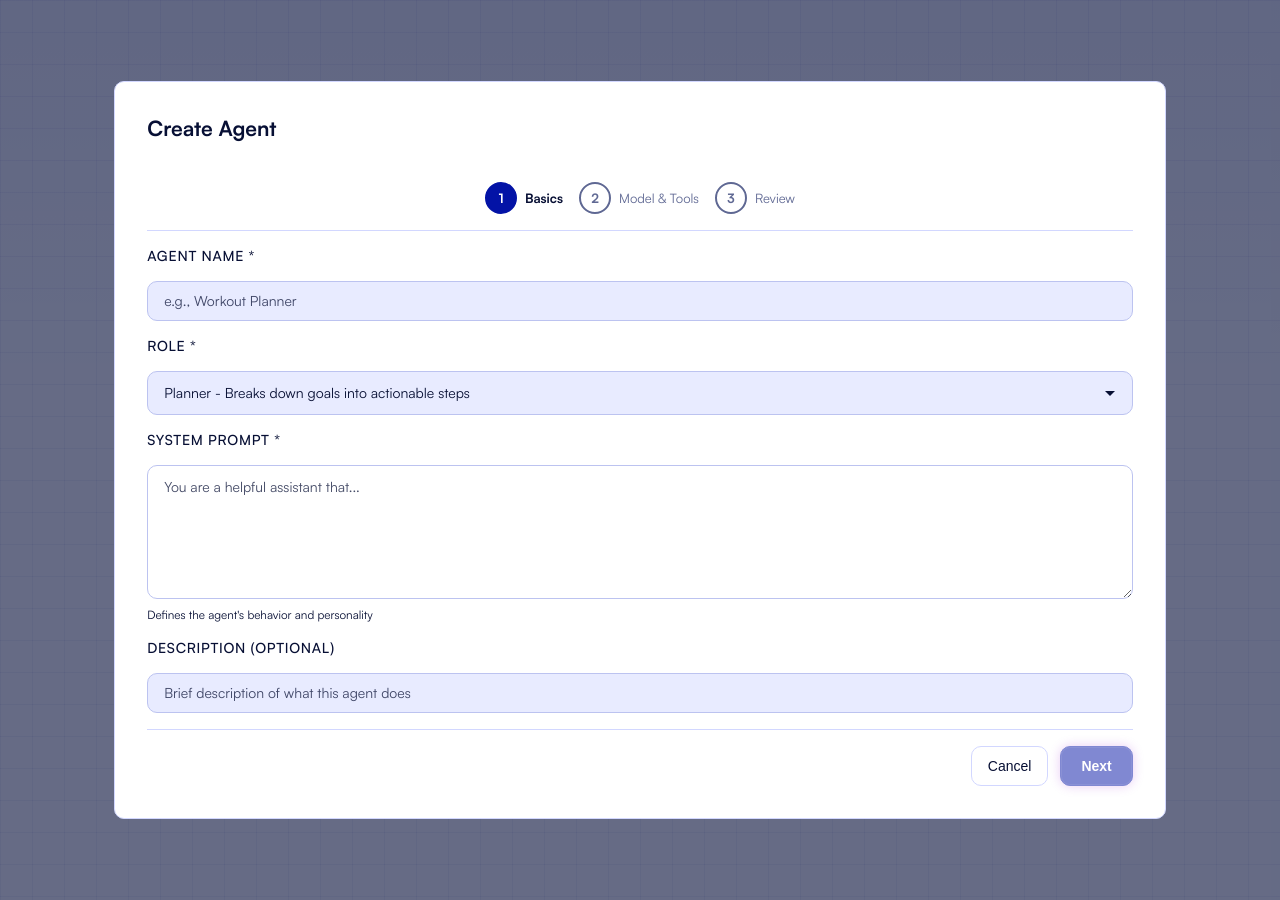
AgentBuilderWizard › back button: on step 2, click Back, returns to step 1
// Fill step 1 and go to step 2
Type "My Agent" into the field with placeholder "e.g., Workout Planner".
click(640, 301); type("My Agent")  # box [147,281,1133,321]
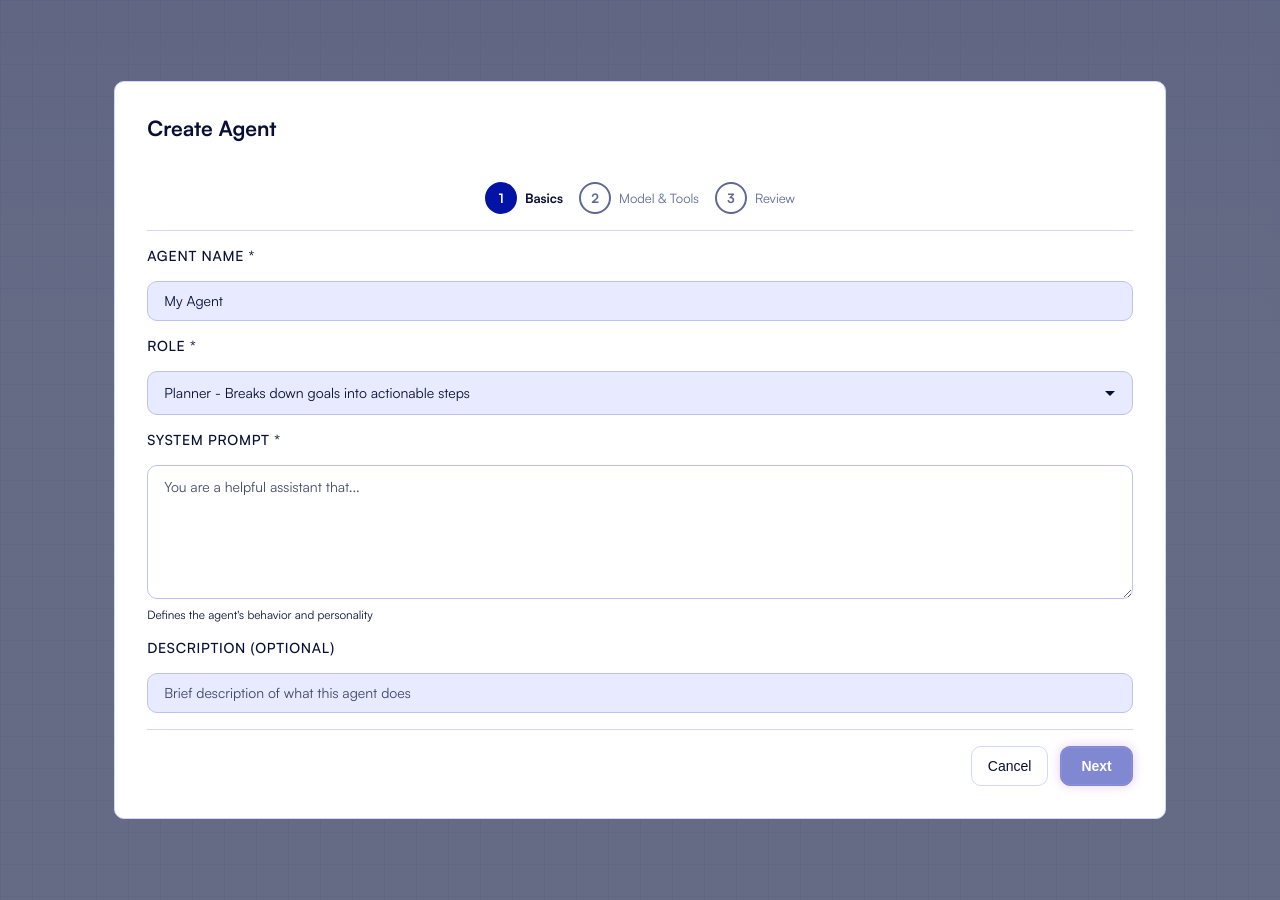
Type "You are a test agent." into the text box with placeholder "You are a helpful assistant that...".
click(640, 532); type("You are a test agent.")  # box [147,465,1133,599]
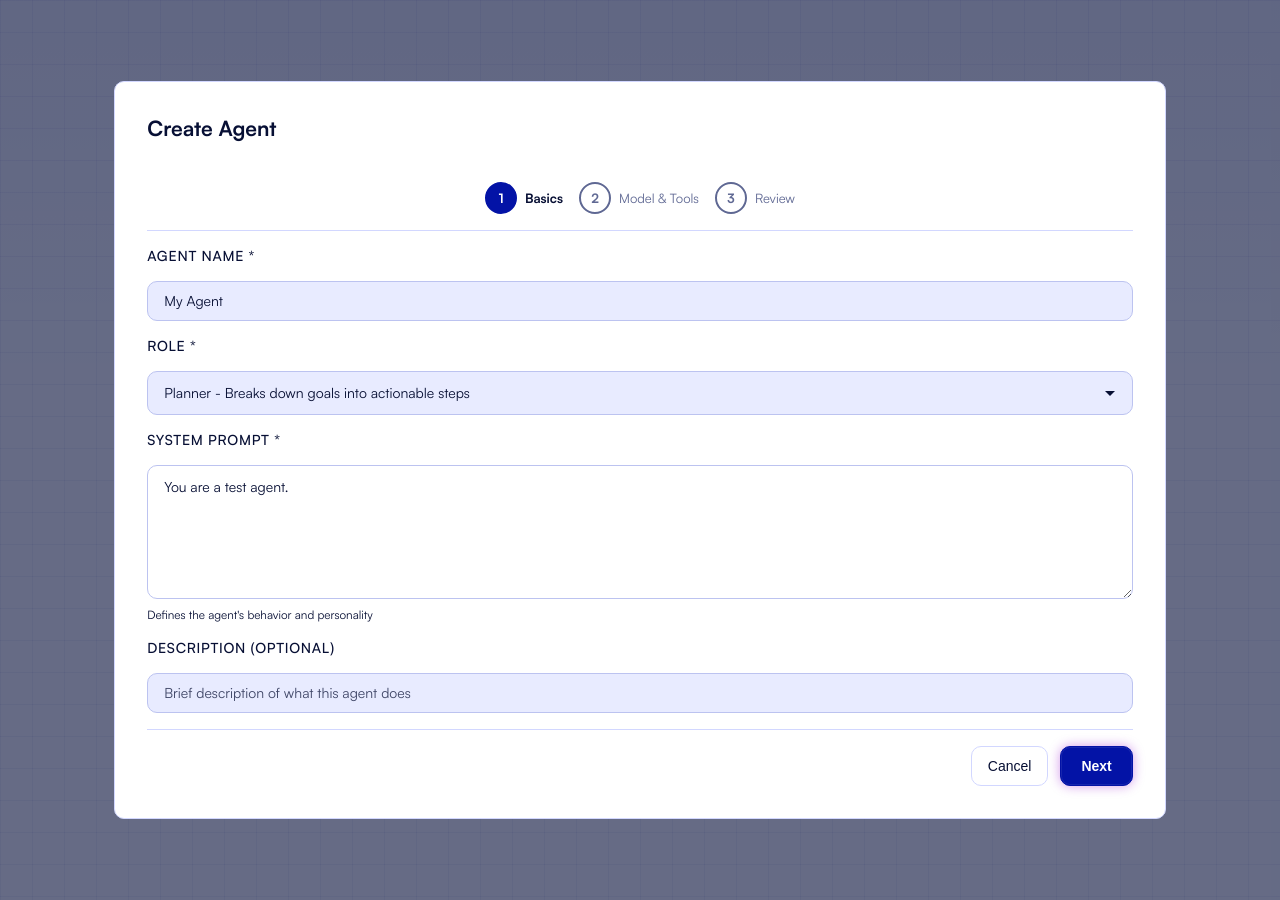
Click the button "Next".
click(1097, 766)  # box [1060,746,1133,786]
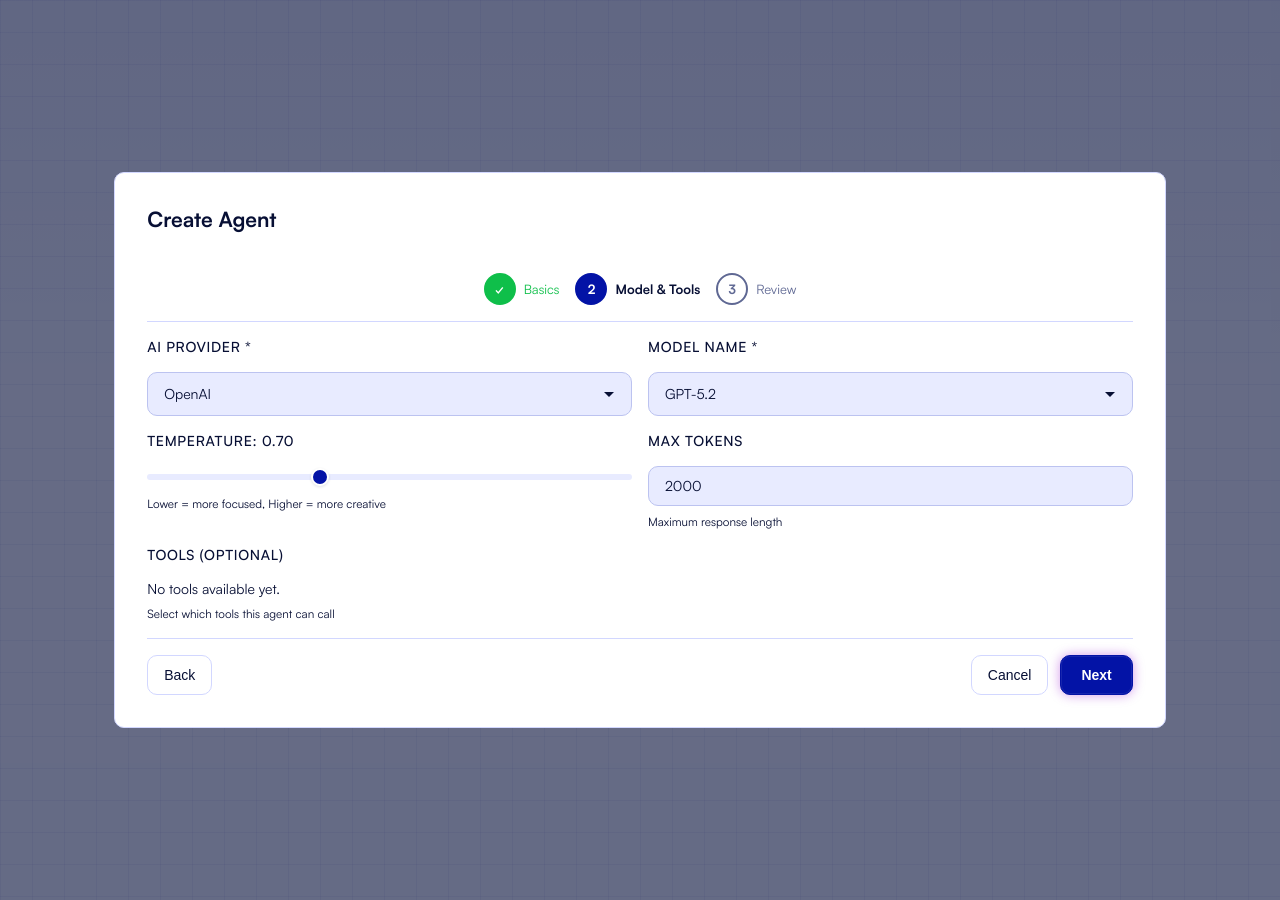
// Click Back
Click the button "Back".
click(180, 675)  # box [147,655,212,695]
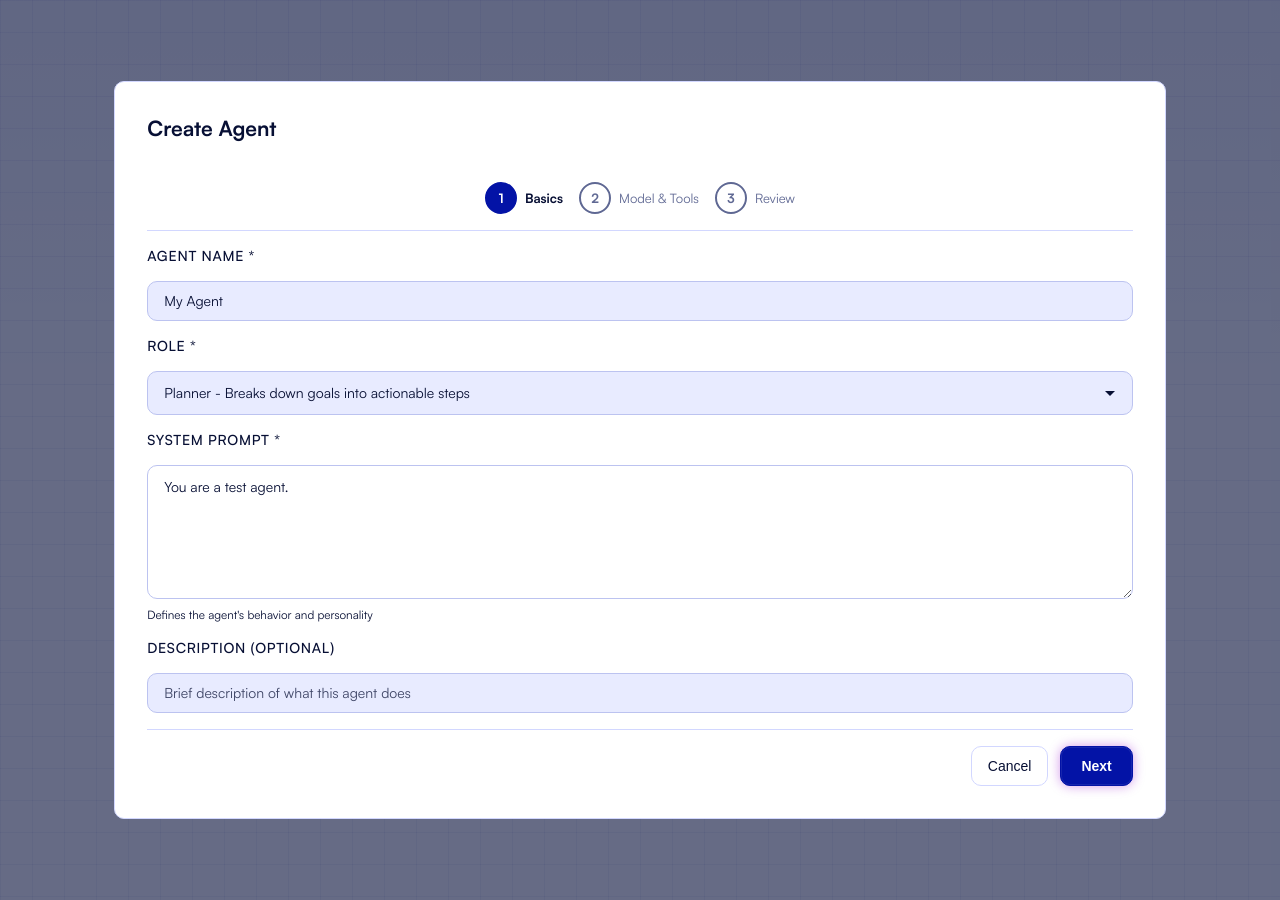
Expected: the field with placeholder "e.g., Workout Planner" is shown, [147,281,1133,321]
